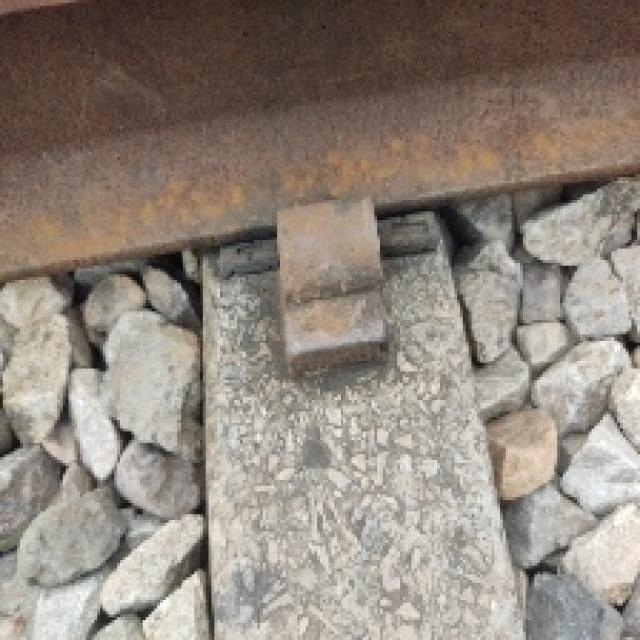Missing Fastener: (239, 174, 435, 410)
